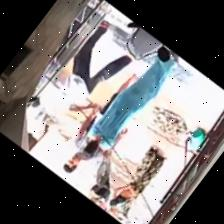person: (80, 56, 177, 158), (63, 73, 135, 171), (55, 20, 132, 111), (107, 146, 165, 216)
